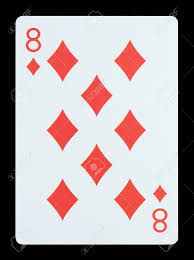eight of diamonds: (14, 15, 179, 244)
